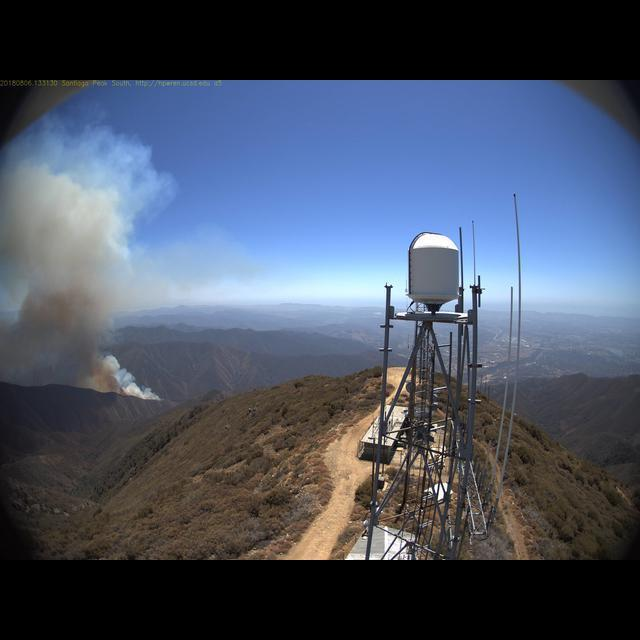Smoke: (2, 122, 161, 405)
